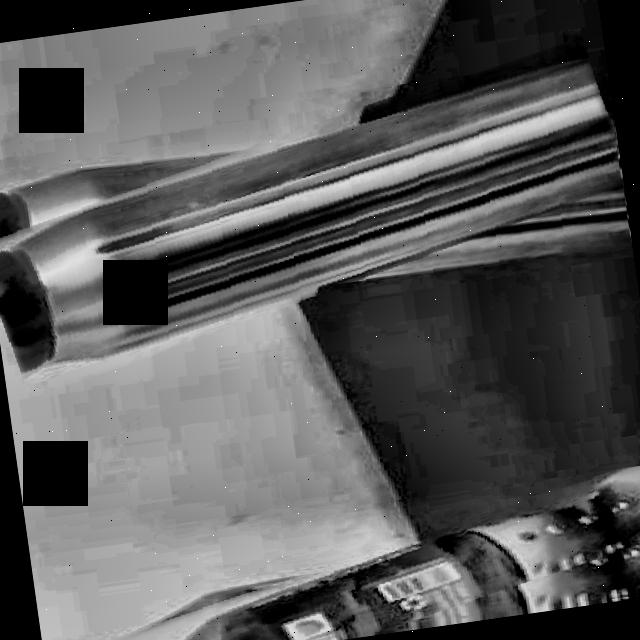bottle: (0, 57, 623, 373), (185, 465, 640, 640)
